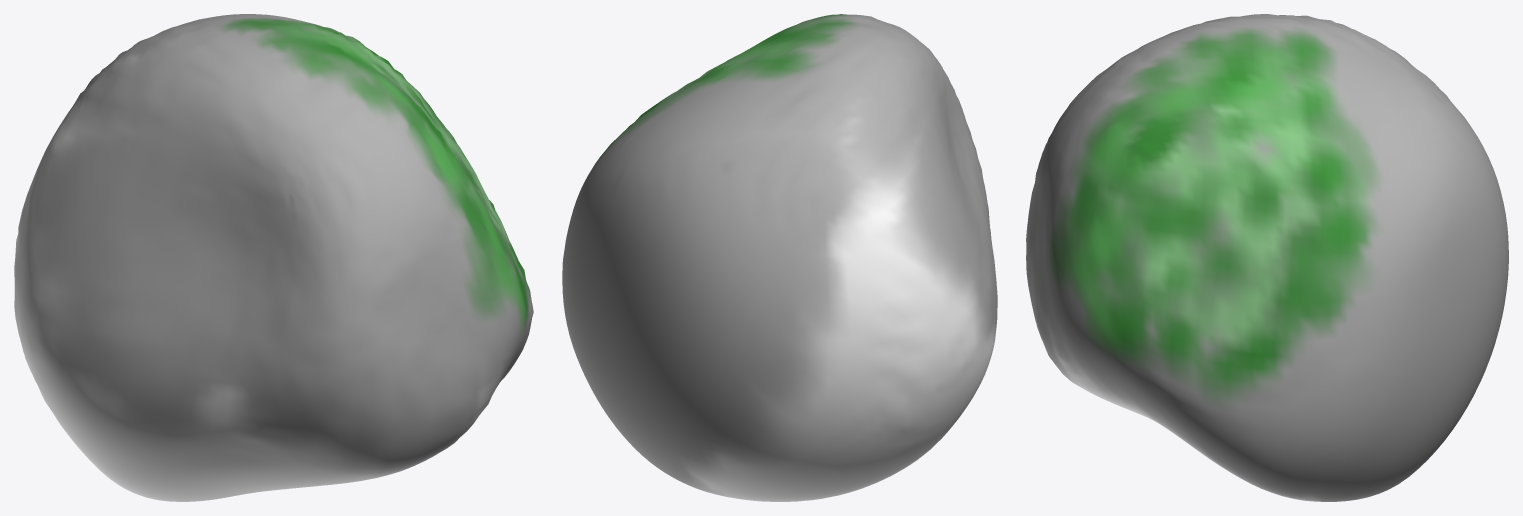
The model's file is Rock .obj.
The picture shows the model from 3 angles, left to right: view 1: azimuth 30°, elevation 25°; view 2: azimuth 150°, elevation 25°; view 3: azimuth 270°, elevation 25°; orthographic projection. The views are drawn at different scales.
Visible parts, largest first — view 1: Sphere; view 2: Sphere; view 3: Sphere.
Boxes of the visible parts, x1=… form: Sphere: x1=14, y1=14, x2=533, y2=501; Sphere: x1=562, y1=14, x2=997, y2=501; Sphere: x1=1026, y1=14, x2=1508, y2=501.
Bounding box in the file's own units: 0.9215 × 0.9202 × 0.948.
Materials: 1 (1 with a texture image).
